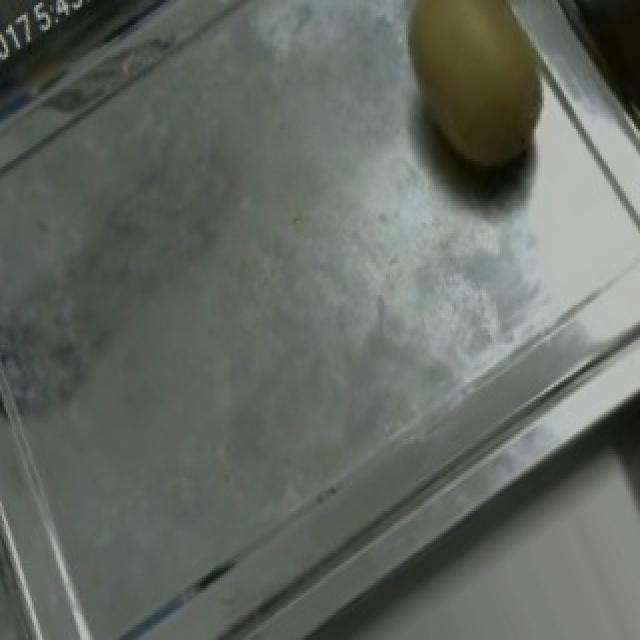Fruit: (366, 0, 576, 213)
